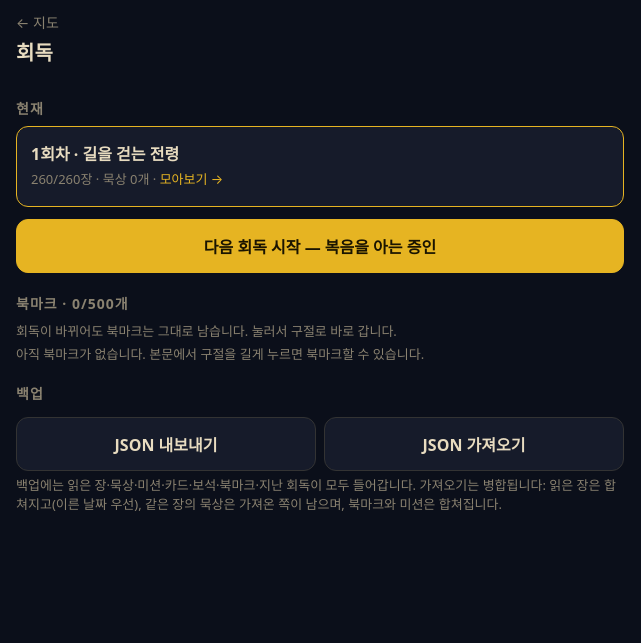
Test: next cycle requires completion; completing archives and retitles
Step 1. Click the button "다음 회독 시작 — 복음을 아는 증인" → click(320, 246), box [16,219,624,273]
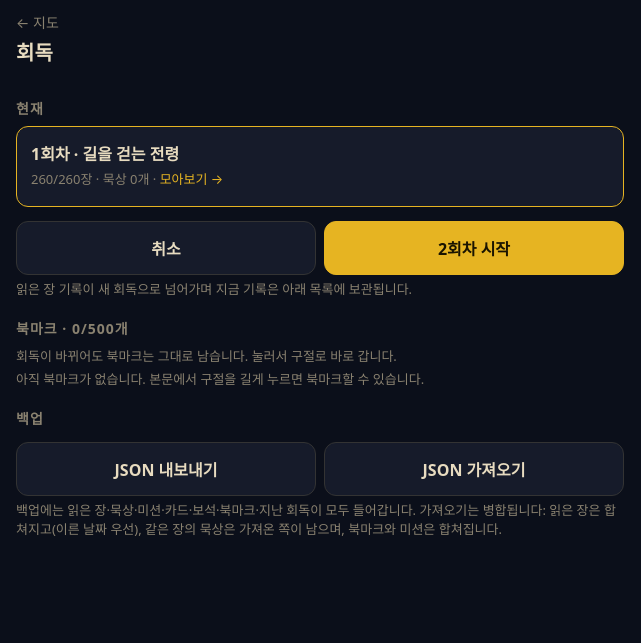
Step 2. Click the button "2회차 시작" → click(474, 248), box [324,221,624,275]
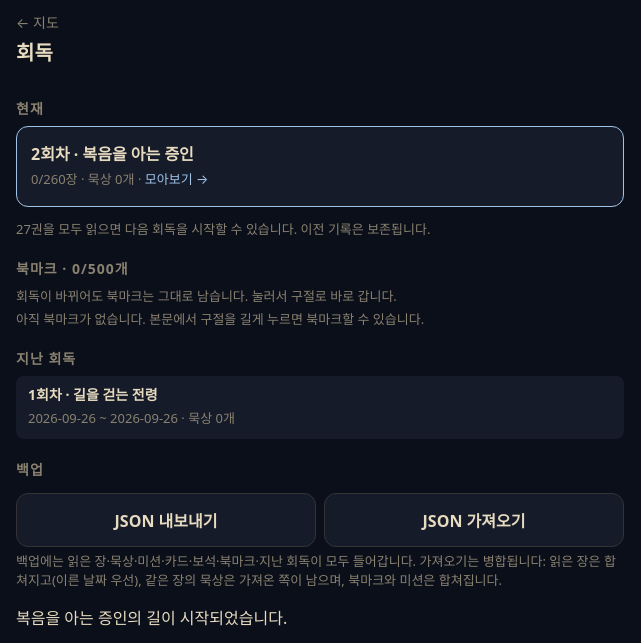
Check: the text "1회차 · 길을 걷는 전령" is shown, box [28,385,158,404]
Check: the text "2회차 · 복음을 아는 증인" is shown, box [31,143,194,165]
